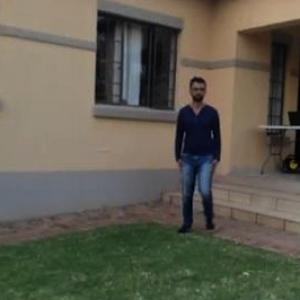follow: (173, 69, 224, 246)
